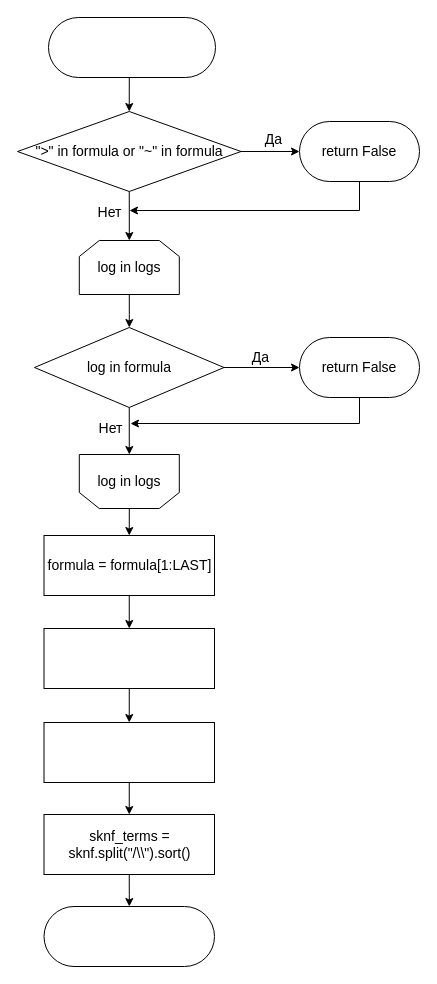
This 437x984 diagram has some shape labels left out. Each missing label, with the centre of its shape:
input_terms = formula.split("/\\").sort(): (128,752)
is_sknf(formula, sknf): (132,47)
return input_terms == sknf_terms: (128,936)
sknf = sknf[1:LAST]: (128,658)
